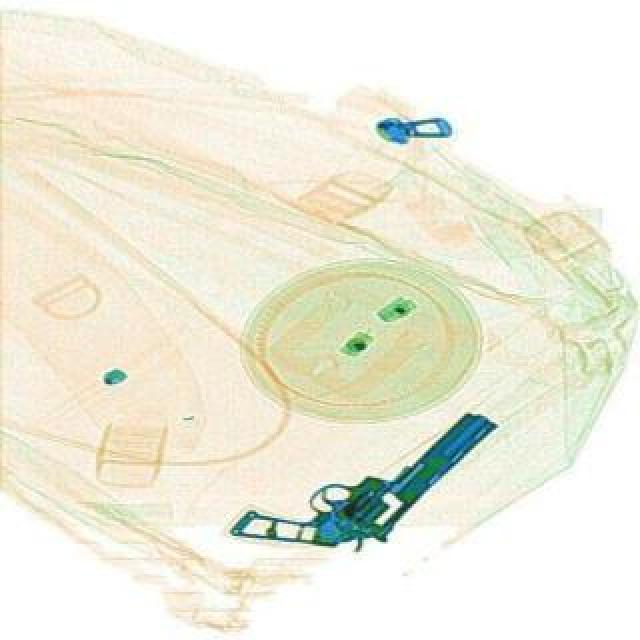gun: (226, 346, 498, 606)
